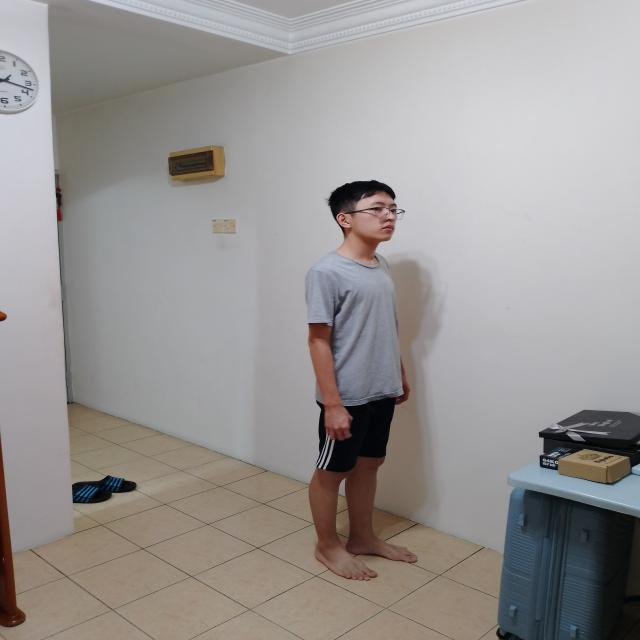person_without_labcoat: (306, 180, 416, 580)
